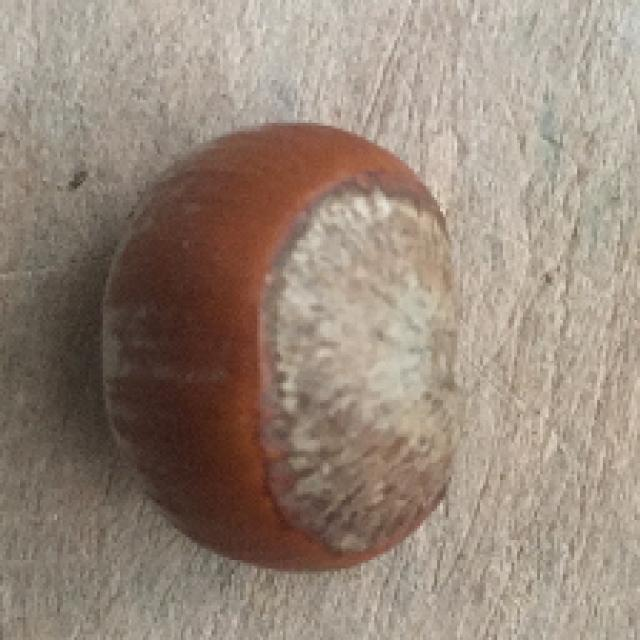QualityHazelnut: (97, 124, 460, 580)
